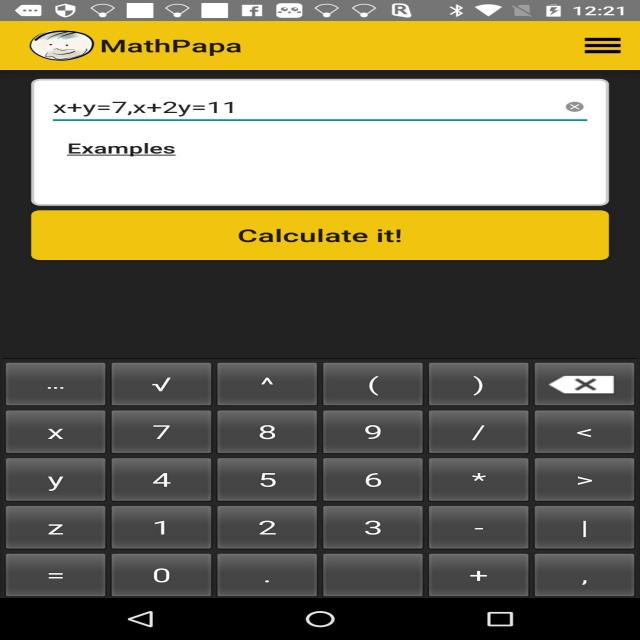button: (32, 209, 610, 262), (45, 133, 199, 168), (2, 407, 107, 456), (320, 456, 425, 504), (318, 408, 425, 455), (530, 361, 636, 408), (215, 455, 318, 503), (2, 361, 109, 407), (111, 503, 215, 550), (215, 504, 321, 550), (322, 503, 425, 550), (533, 455, 635, 502), (425, 360, 529, 406), (108, 455, 212, 501), (425, 505, 531, 550), (426, 409, 529, 455), (1, 552, 111, 595), (533, 505, 638, 550), (5, 455, 105, 502), (216, 408, 318, 454), (428, 552, 530, 598), (530, 552, 636, 596), (3, 506, 111, 549), (318, 552, 425, 595), (530, 410, 634, 454), (429, 457, 528, 503), (112, 362, 215, 406), (216, 552, 316, 597), (111, 410, 212, 454), (218, 363, 320, 406), (321, 362, 422, 405), (114, 551, 214, 594)
icon: (26, 30, 94, 62), (548, 372, 618, 397), (580, 35, 622, 55), (558, 100, 594, 115)
text: (228, 224, 411, 249), (96, 36, 250, 59), (49, 102, 246, 118), (56, 138, 186, 160), (237, 515, 296, 544), (129, 515, 193, 541), (554, 512, 607, 542), (442, 467, 510, 488), (236, 423, 294, 447), (344, 516, 394, 540), (137, 423, 186, 447), (34, 424, 85, 447), (239, 371, 296, 391), (134, 379, 194, 397), (350, 468, 403, 488), (566, 472, 616, 492), (457, 375, 498, 399), (350, 423, 394, 445), (454, 422, 499, 443), (139, 472, 185, 492), (34, 474, 79, 494), (242, 569, 296, 585), (454, 568, 504, 585), (562, 423, 606, 442), (39, 522, 82, 541), (565, 572, 610, 590), (355, 375, 390, 397), (451, 522, 502, 536), (39, 566, 74, 586), (247, 472, 283, 491), (146, 566, 176, 586), (356, 570, 385, 584), (41, 383, 71, 394)
